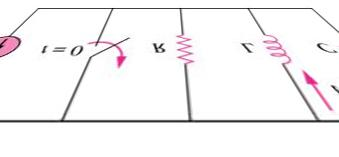inductor: (256, 26, 294, 68)
